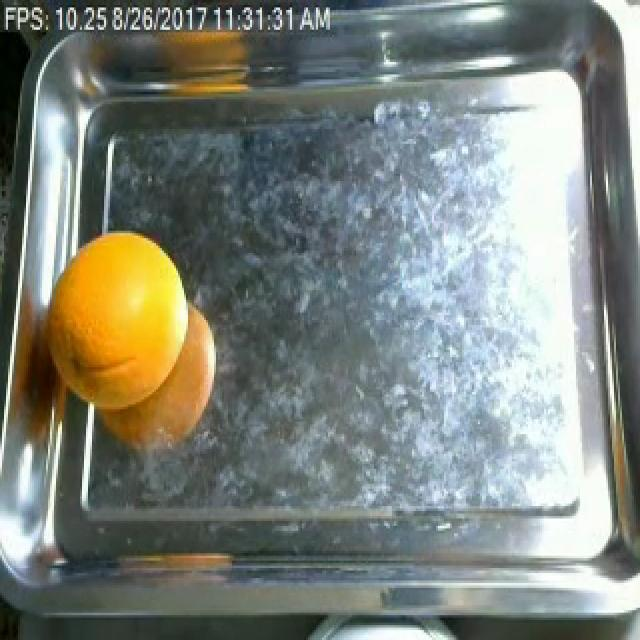Fruit: (34, 216, 202, 461)
